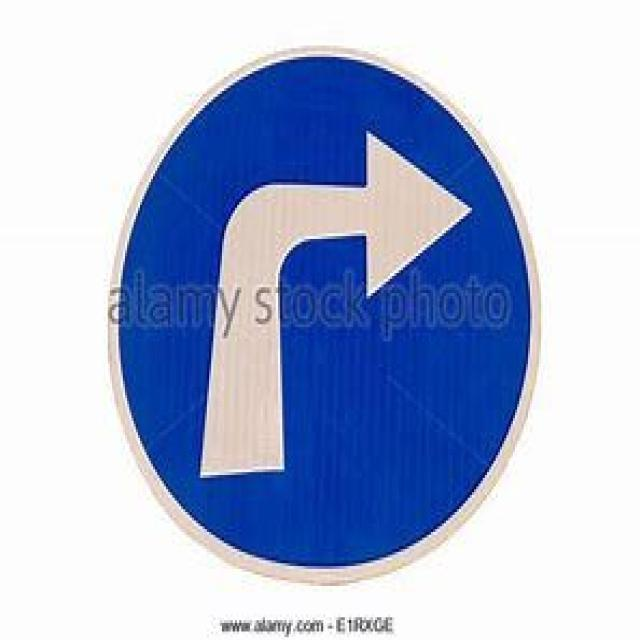COMPULSARY_TURN_RIGHT_AHEAD: (111, 41, 542, 579)
